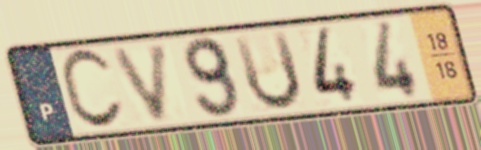4: (310, 23, 362, 109), (372, 18, 419, 102)
9: (179, 33, 245, 122)
C: (57, 45, 129, 133)
U: (229, 27, 306, 115)
V: (108, 39, 172, 126)
